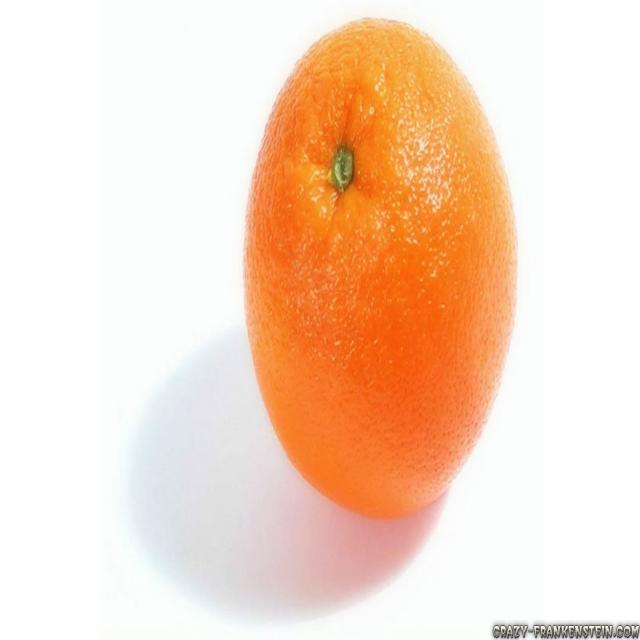Orange: (242, 17, 520, 518)
